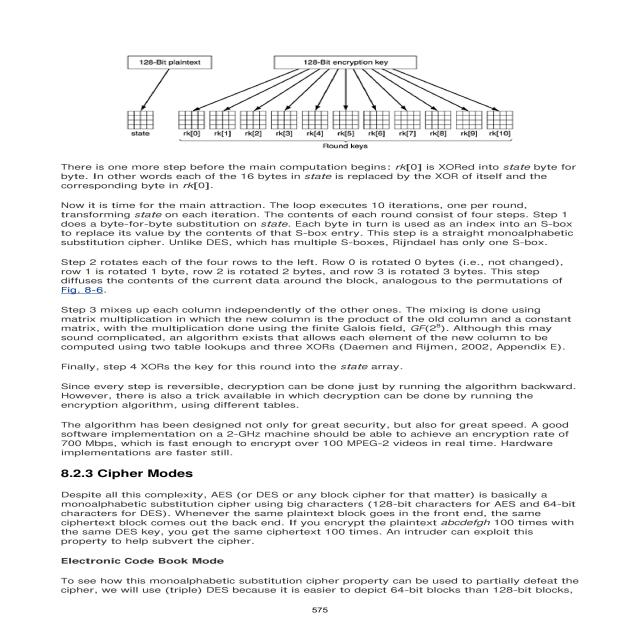diagram: (97, 32, 550, 156)
